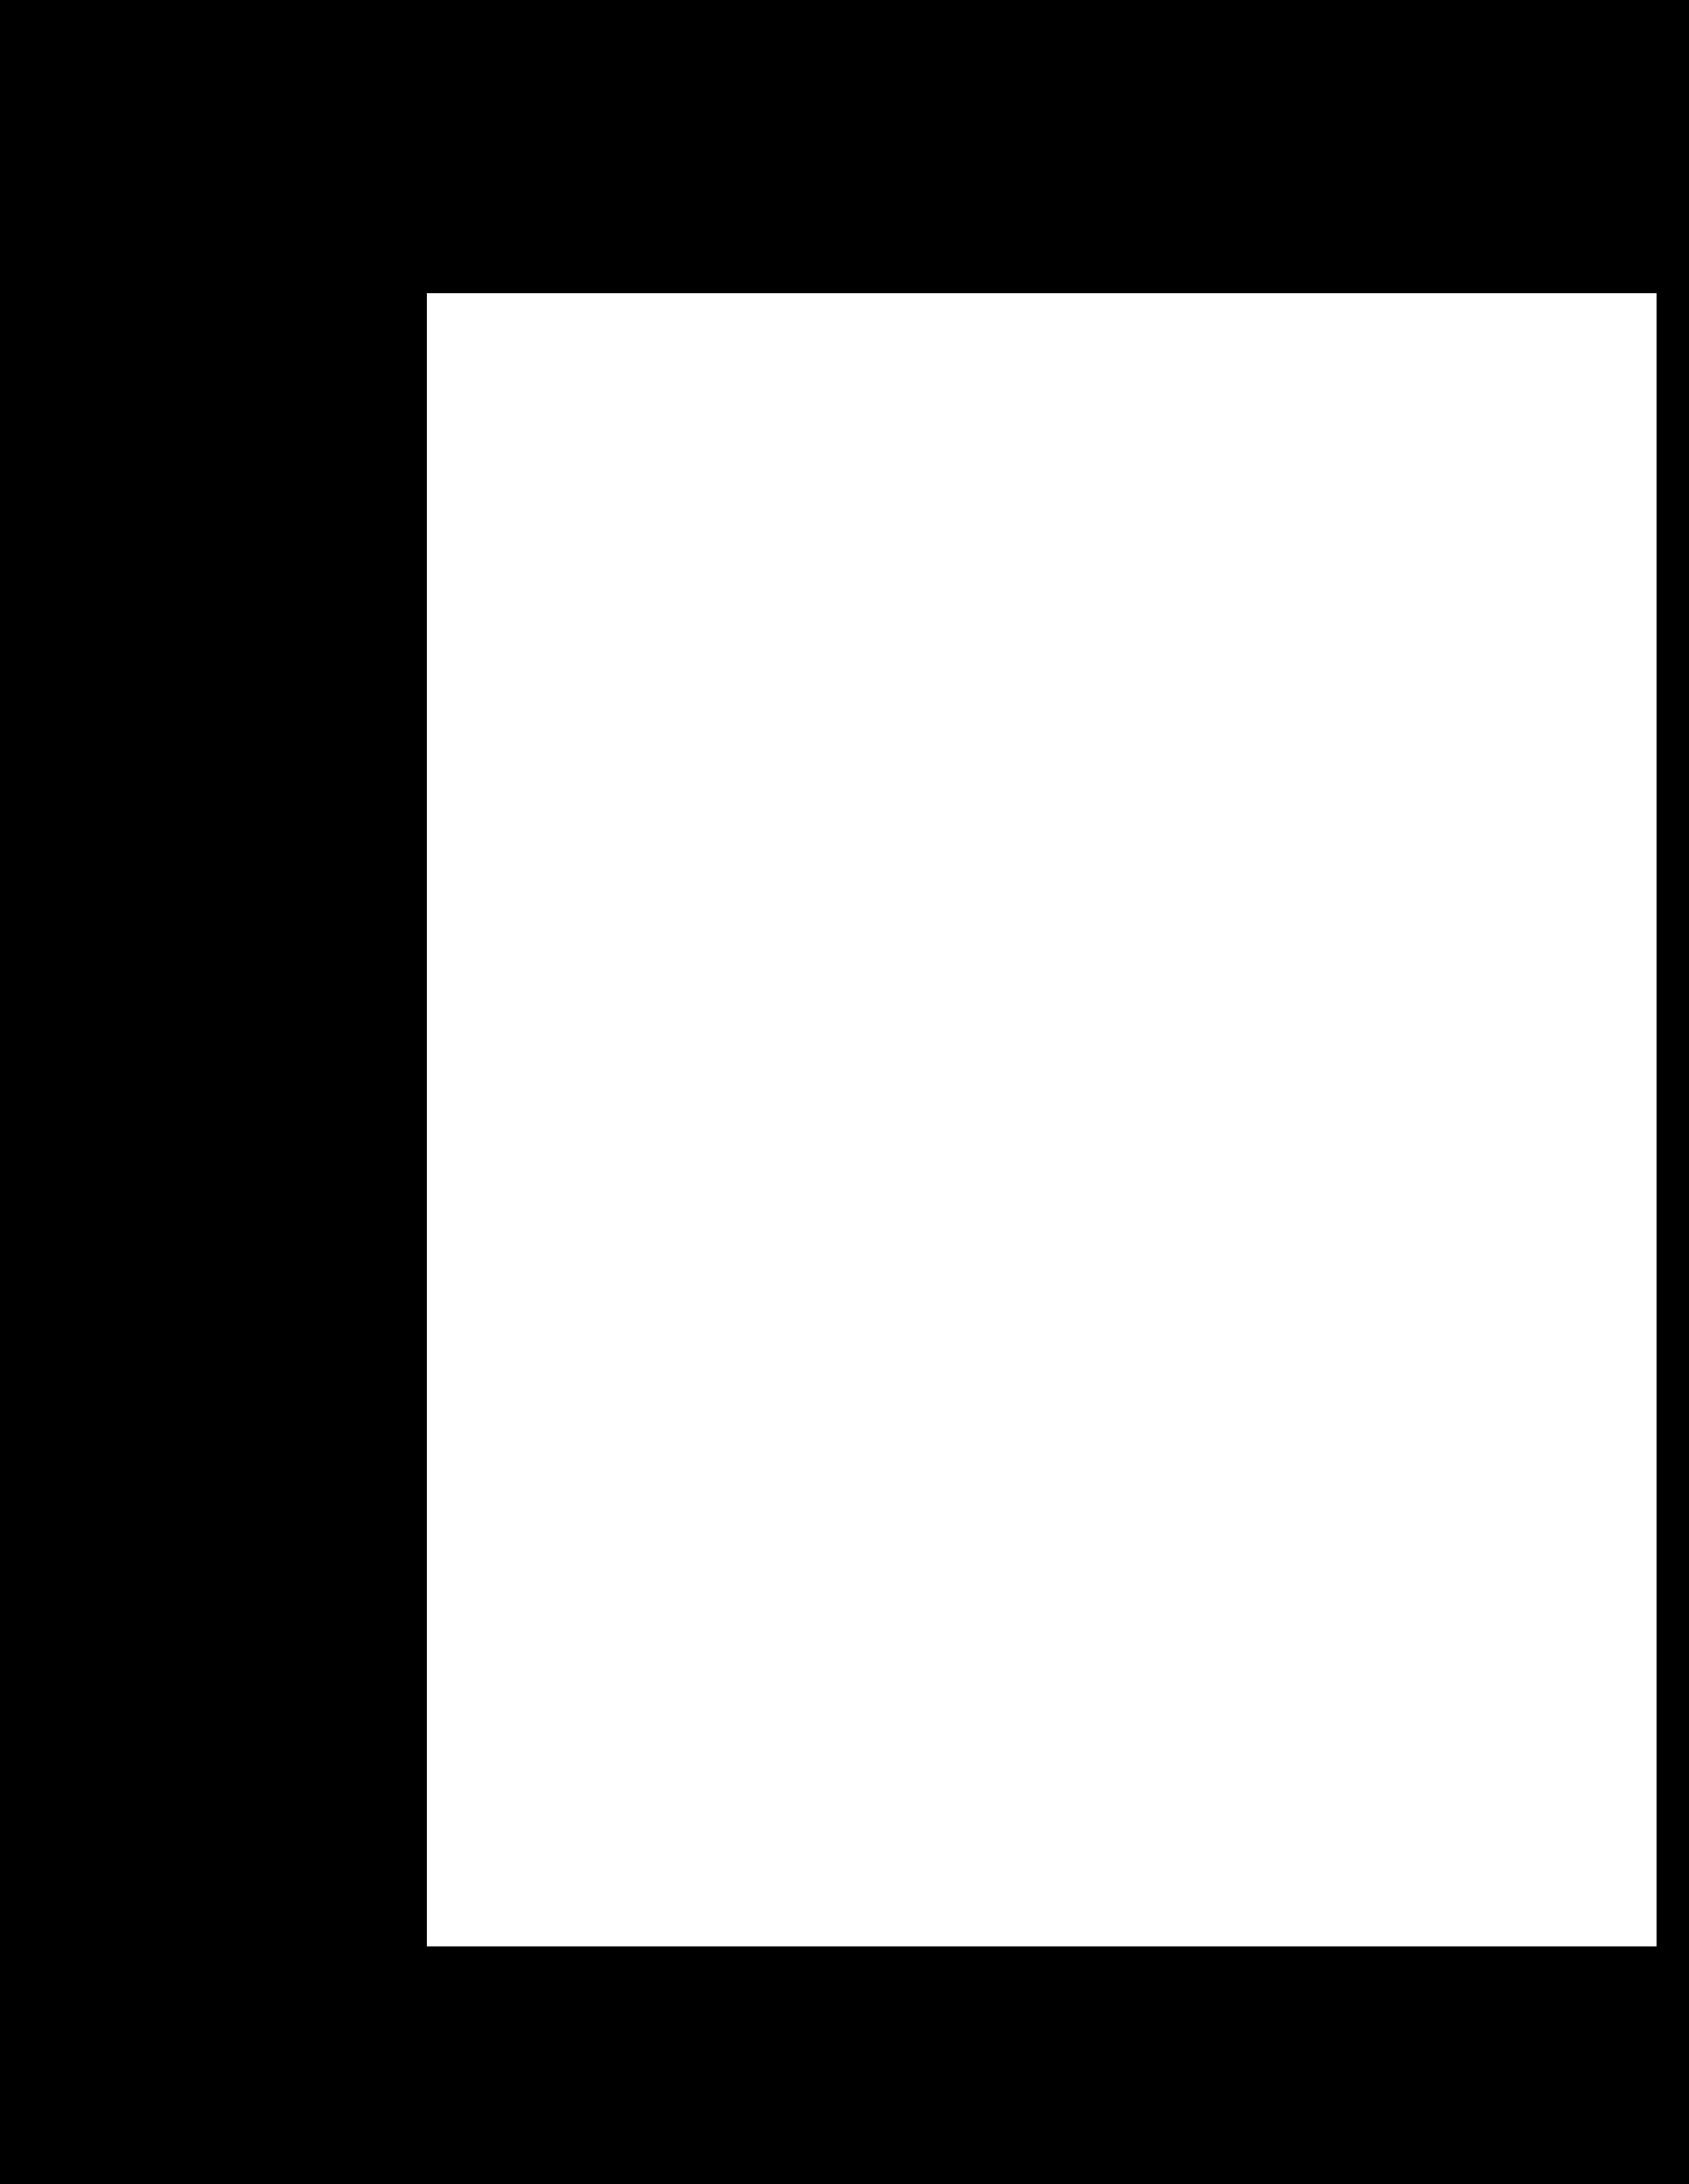table: (427, 292, 1655, 1946)
